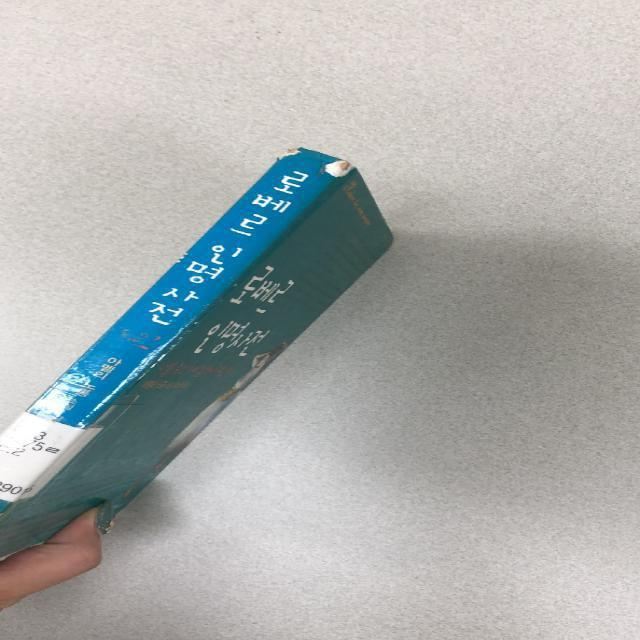Ripped: (319, 154, 360, 184), (267, 144, 311, 169)
